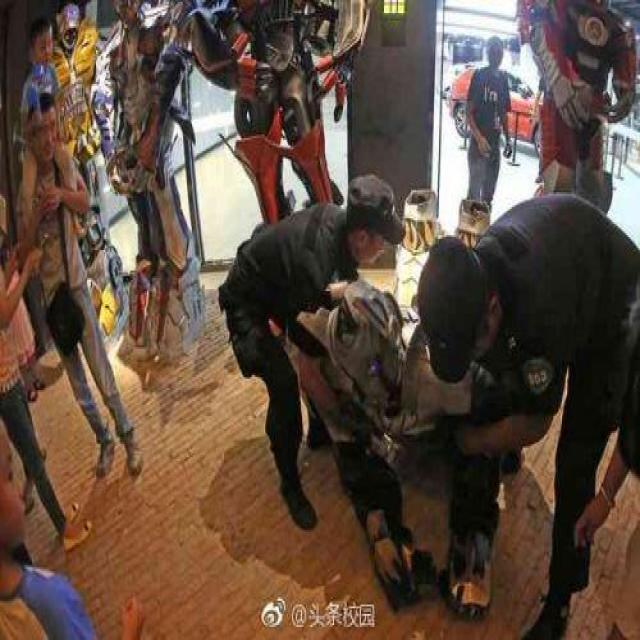10-: (1, 3, 636, 630)
down: (322, 268, 518, 618)
